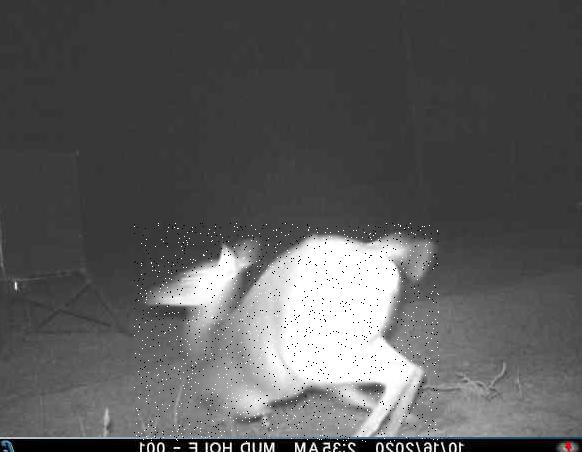Deer: (134, 223, 439, 442)
